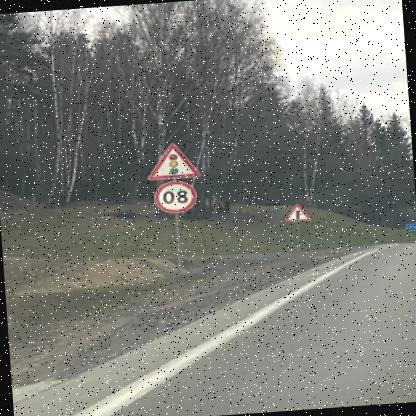speedlimit: (156, 178, 201, 214)
